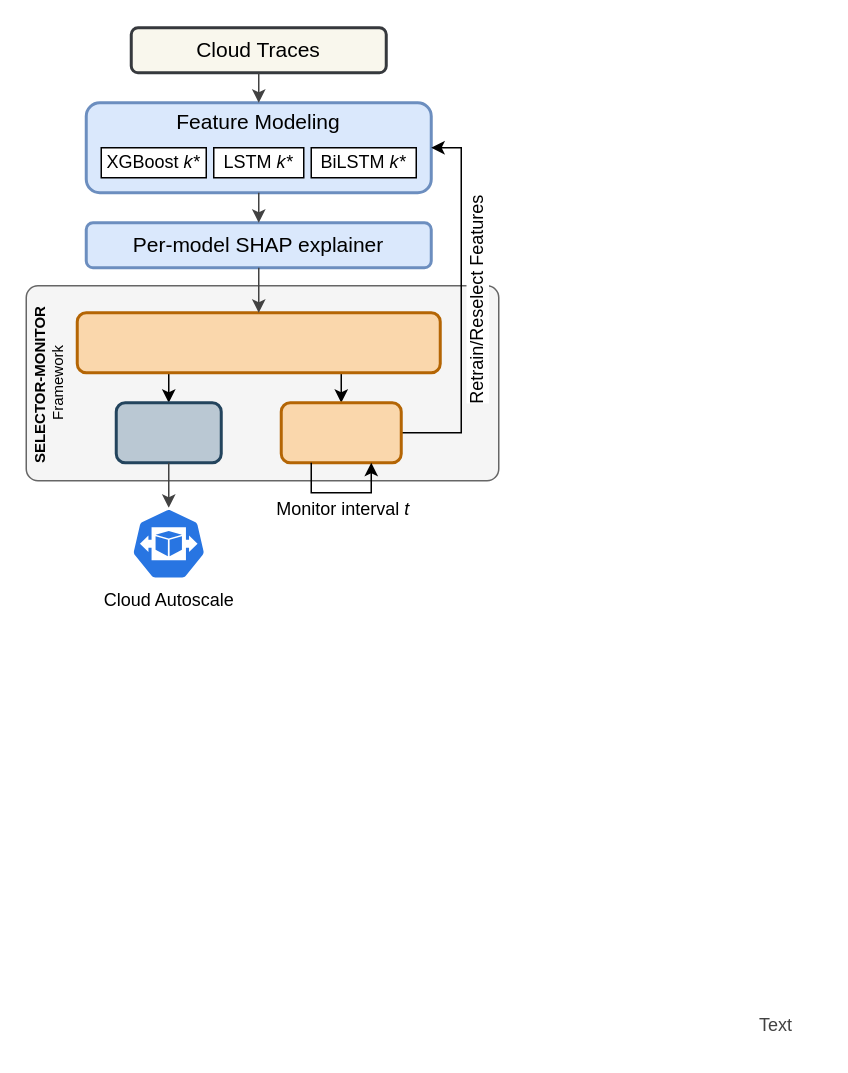
Image size: 848x1073. Some labels were removed from this diagram. Each missing label, with the centre of its shape:
bestFES: (x=168, y=432)
M ONITOR loop: (x=340, y=432)
S ELECTOR (Model-consistent top- k search): (x=258, y=342)
